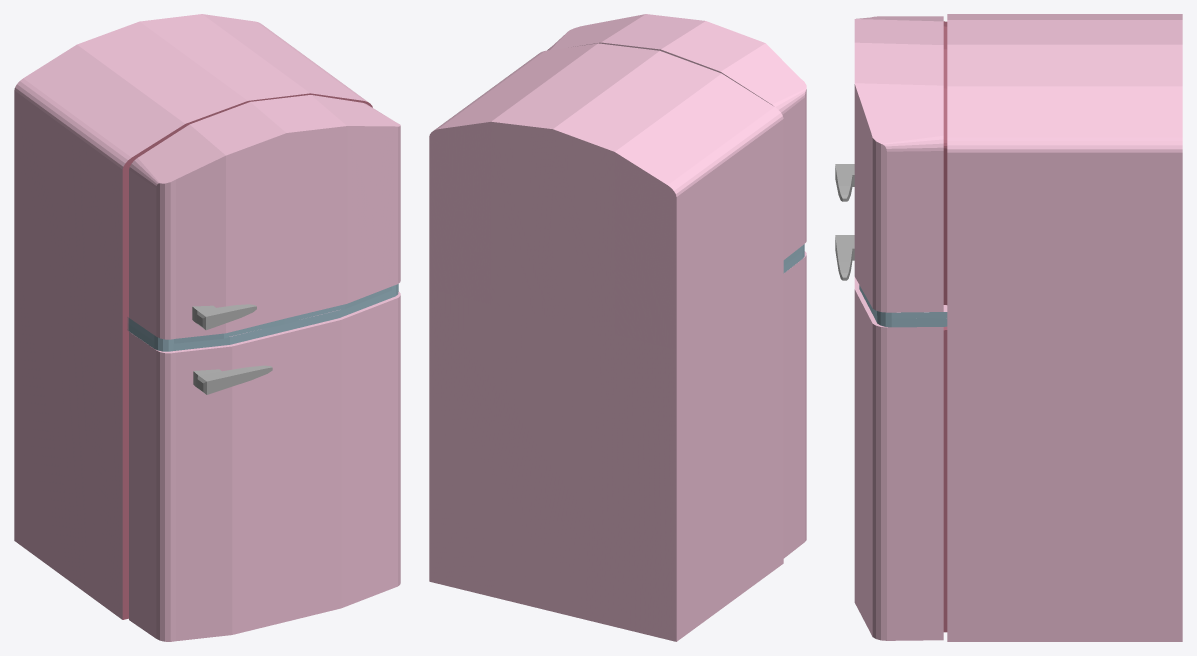
File: Fridge_K.fbx
3 renders of one model, left to right at view 1: azimuth 30°, elevation 25°; view 2: azimuth 150°, elevation 25°; view 3: azimuth 270°, elevation 25°, orthographic. The views are drawn at different scales.
Parts seen in each view (by area): view 1: Cube.003, Cube.002, Cube.001, Cube, Cube.005, Cube.004; view 2: Cube, Cube.001, Cube.002, Cube.003; view 3: Cube, Cube.001, Cube.003, Cube.002, Cube.005, Cube.004.
Part boxes in pixels (bbox=[...]): Cube.003: bbox=[127, 285, 400, 641]; Cube.002: bbox=[127, 95, 400, 344]; Cube.001: bbox=[14, 14, 372, 323]; Cube: bbox=[14, 244, 128, 619]; Cube.005: bbox=[193, 365, 272, 394]; Cube.004: bbox=[192, 304, 256, 330]; Cube: bbox=[429, 271, 783, 641]; Cube.001: bbox=[429, 43, 783, 349]; Cube.002: bbox=[547, 14, 806, 265]; Cube.003: bbox=[783, 250, 806, 558]; Cube: bbox=[947, 320, 1182, 641]; Cube.001: bbox=[947, 14, 1182, 320]; Cube.003: bbox=[854, 277, 947, 640]; Cube.002: bbox=[854, 16, 947, 319]; Cube.005: bbox=[835, 235, 854, 280]; Cube.004: bbox=[835, 164, 854, 201].
Size of the model in its own units: 94.47 by 176 by 105.
